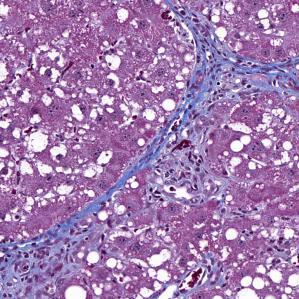fibrosis: (185, 38, 288, 104), (0, 232, 83, 294), (144, 130, 212, 196)
